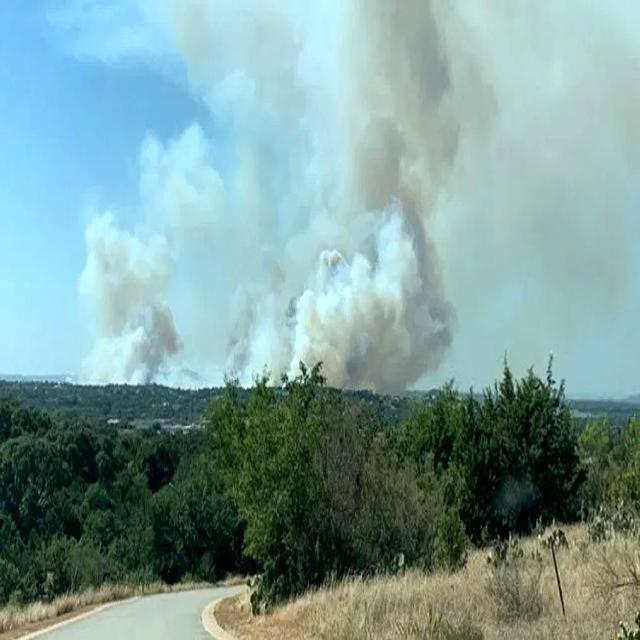Smoke: (75, 0, 640, 385)
